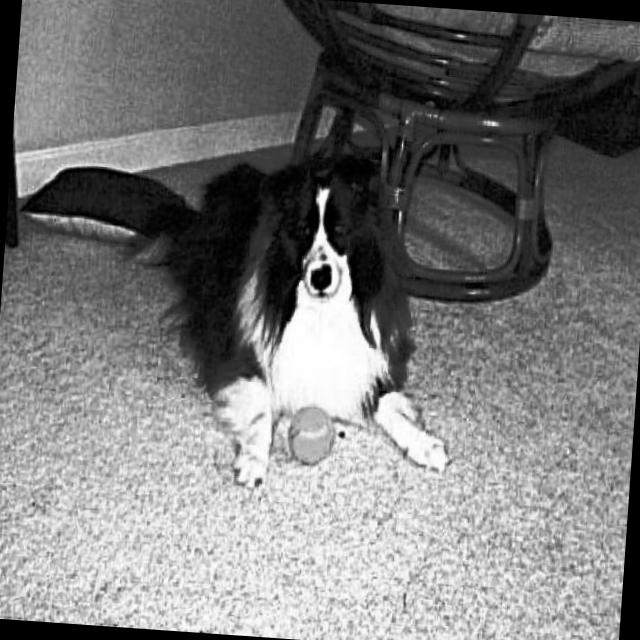Dog: (122, 123, 478, 510)
